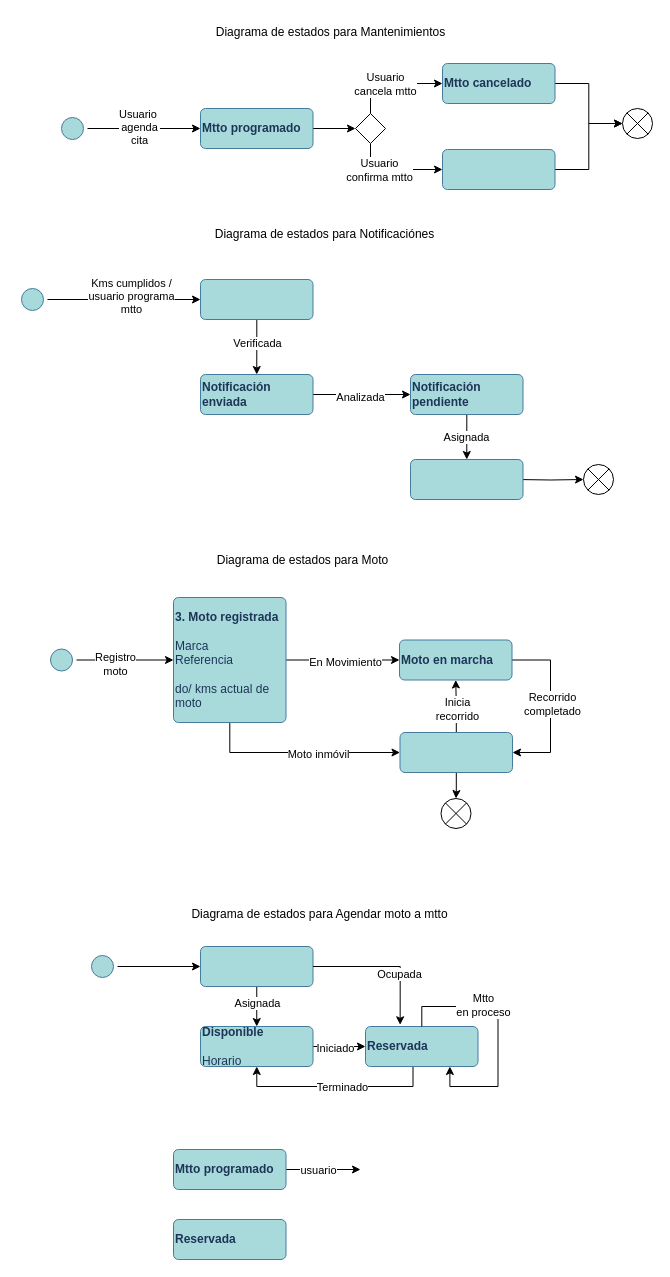
This 670x1277 diagram has some shape labels left out. The shapes that lost their labels are listed below. From the top down, each one's centre as x and y in pixels, then its label:
point 498,169: Mtto realizado
point 256,299: Notificación programada
point 466,479: Notificación confirmada
point 455,752: Moto detenida
point 256,966: Agenda de Motos
